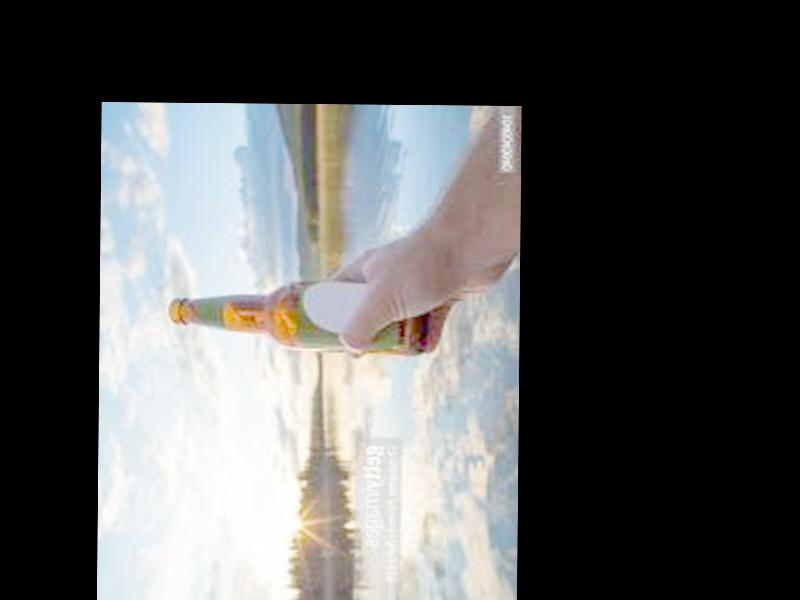Beer: (168, 278, 426, 357)
